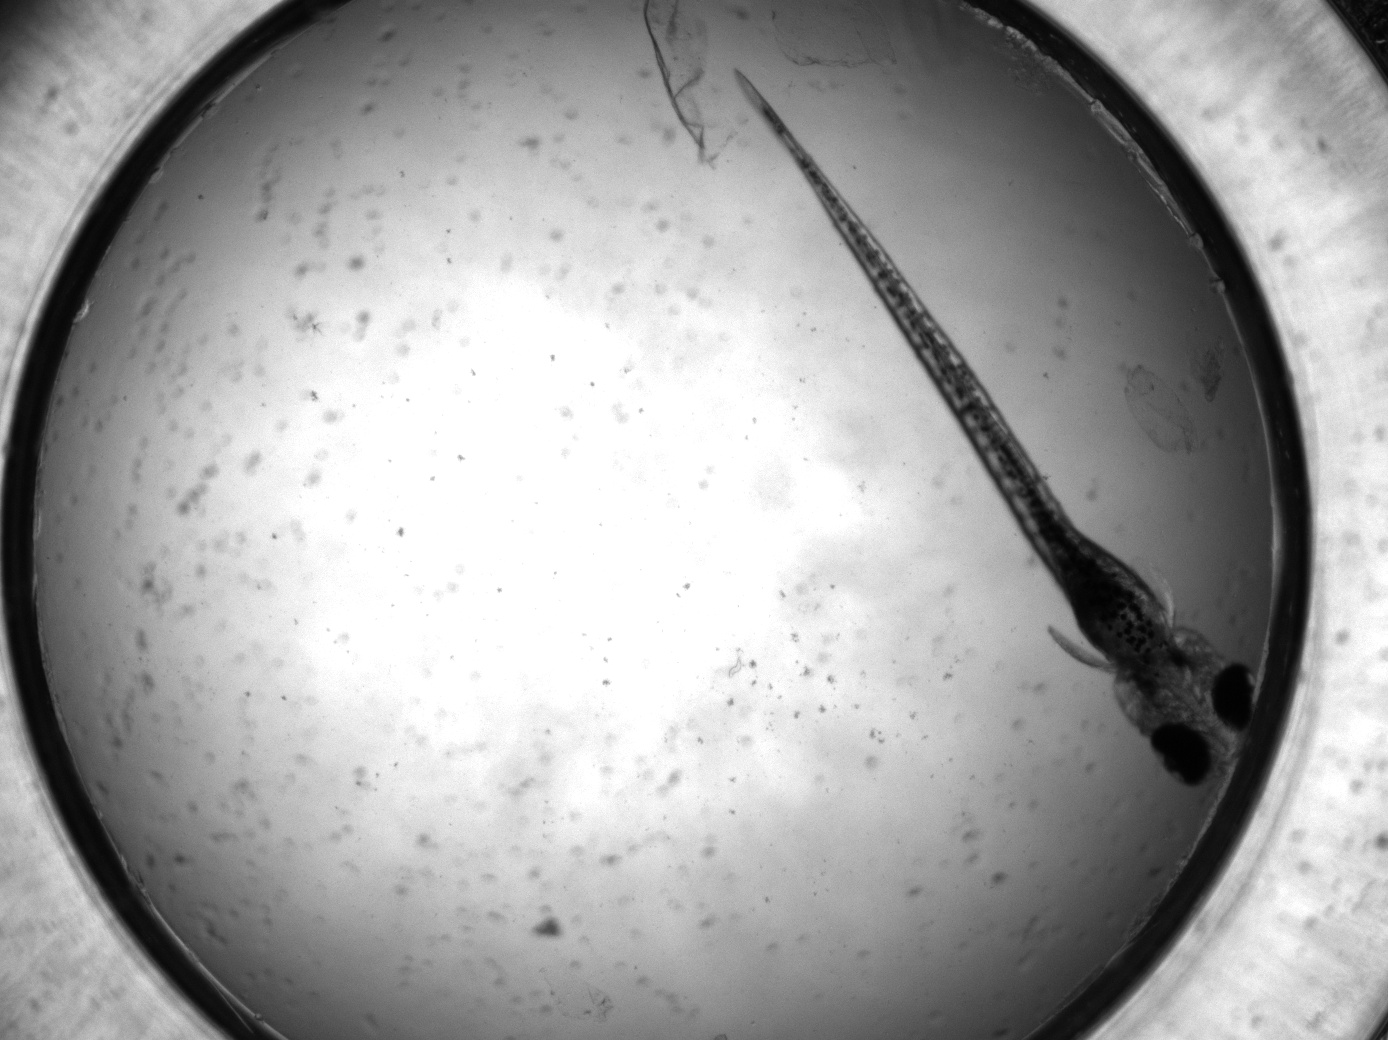debris: (633, 1, 707, 159)
embryo: (734, 68, 1264, 783)
eye: (1152, 722, 1212, 785), (1210, 664, 1260, 733)
yolksac: (1021, 516, 1172, 660)
